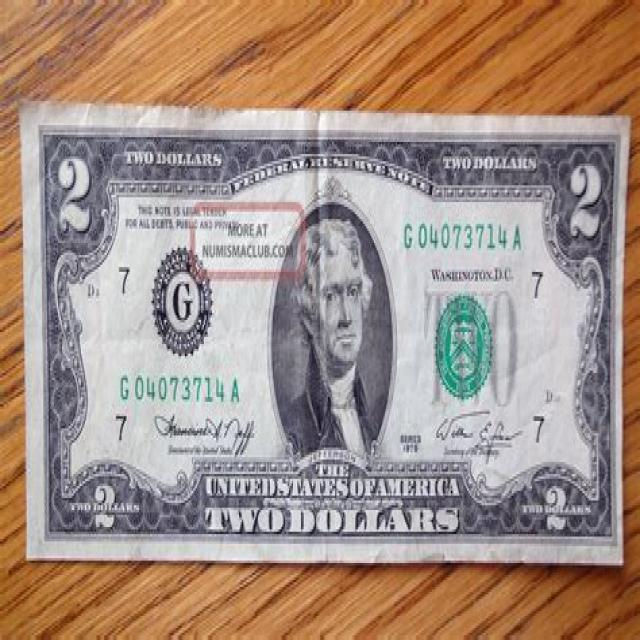Two: (17, 102, 624, 570)
